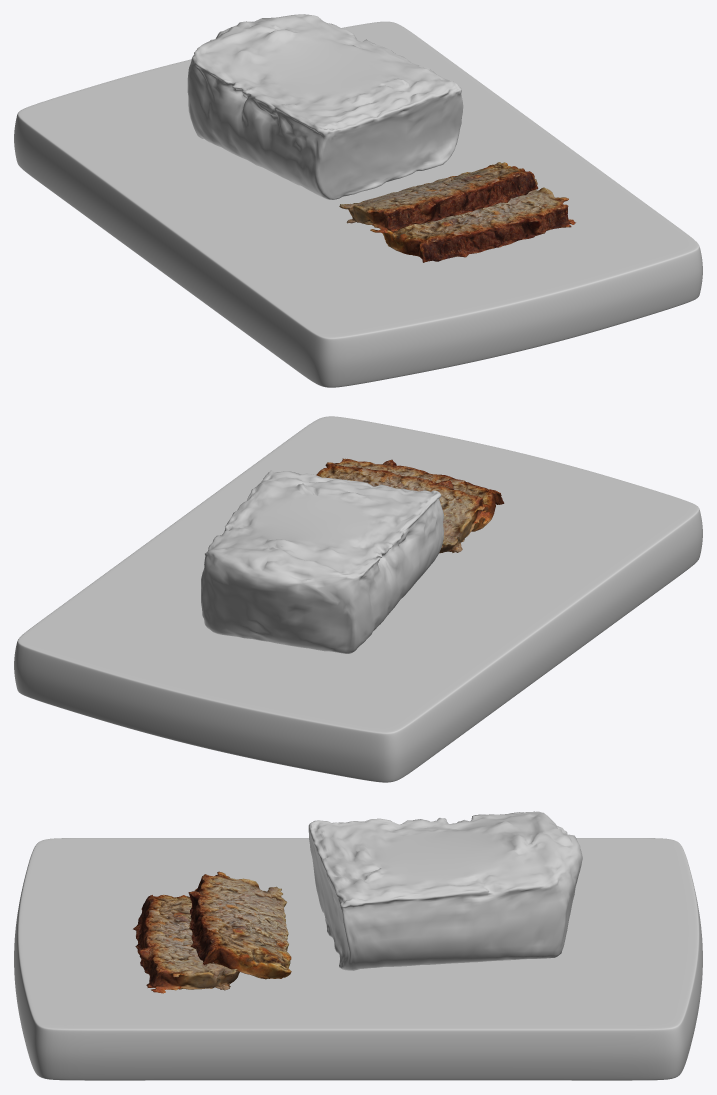
File: Terrine.obj
3 renders of one model, top to bottom at view 1: azimuth 30°, elevation 25°; view 2: azimuth 150°, elevation 25°; view 3: azimuth 270°, elevation 25°, orthographic. The views are drawn at different scales.
Visible parts, largest first — view 1: cgaxis_models_56_64_03, cgaxis_models_56_64_01, cgaxis_models_56_64_02_2, cgaxis_models_56_64_02_1; view 2: cgaxis_models_56_64_03, cgaxis_models_56_64_01, cgaxis_models_56_64_02_1, cgaxis_models_56_64_02_2; view 3: cgaxis_models_56_64_03, cgaxis_models_56_64_01, cgaxis_models_56_64_02_1, cgaxis_models_56_64_02_2.
Part boxes in pixels (x1,y1,x2,y2): cgaxis_models_56_64_03: [14, 21, 702, 387]; cgaxis_models_56_64_01: [187, 14, 463, 199]; cgaxis_models_56_64_02_2: [382, 179, 575, 262]; cgaxis_models_56_64_02_1: [339, 162, 538, 233]; cgaxis_models_56_64_03: [14, 416, 702, 782]; cgaxis_models_56_64_01: [201, 470, 443, 653]; cgaxis_models_56_64_02_1: [316, 463, 491, 553]; cgaxis_models_56_64_02_2: [326, 458, 504, 531]; cgaxis_models_56_64_03: [14, 838, 702, 1080]; cgaxis_models_56_64_01: [308, 811, 582, 970]; cgaxis_models_56_64_02_1: [188, 871, 291, 979]; cgaxis_models_56_64_02_2: [133, 894, 239, 993].
Bounding box in the file's own units: 9.6 × 3.36 × 14.3.
